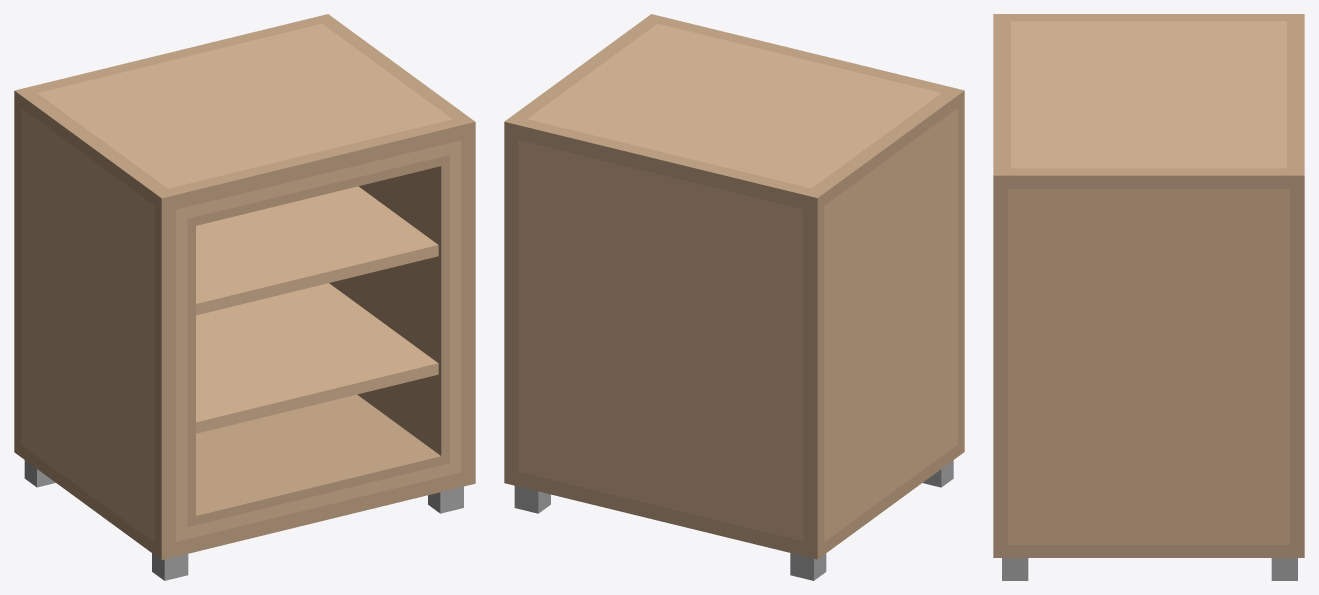
Rendered from pedestal1.fbx.
3 renders of one model, left to right at view 1: azimuth 30°, elevation 25°; view 2: azimuth 150°, elevation 25°; view 3: azimuth 270°, elevation 25°, orthographic. The views are drawn at different scales.
Parts seen in each view (by area): view 1: Cube_10; view 2: Cube_10; view 3: Cube_10.
Part boxes in pixels (x1,y1,x2,y2): Cube_10: (14,14,475,580); Cube_10: (504,14,964,580); Cube_10: (993,14,1304,580).
Bounding box in the file's own units: 19.51 × 23 × 15.87.
